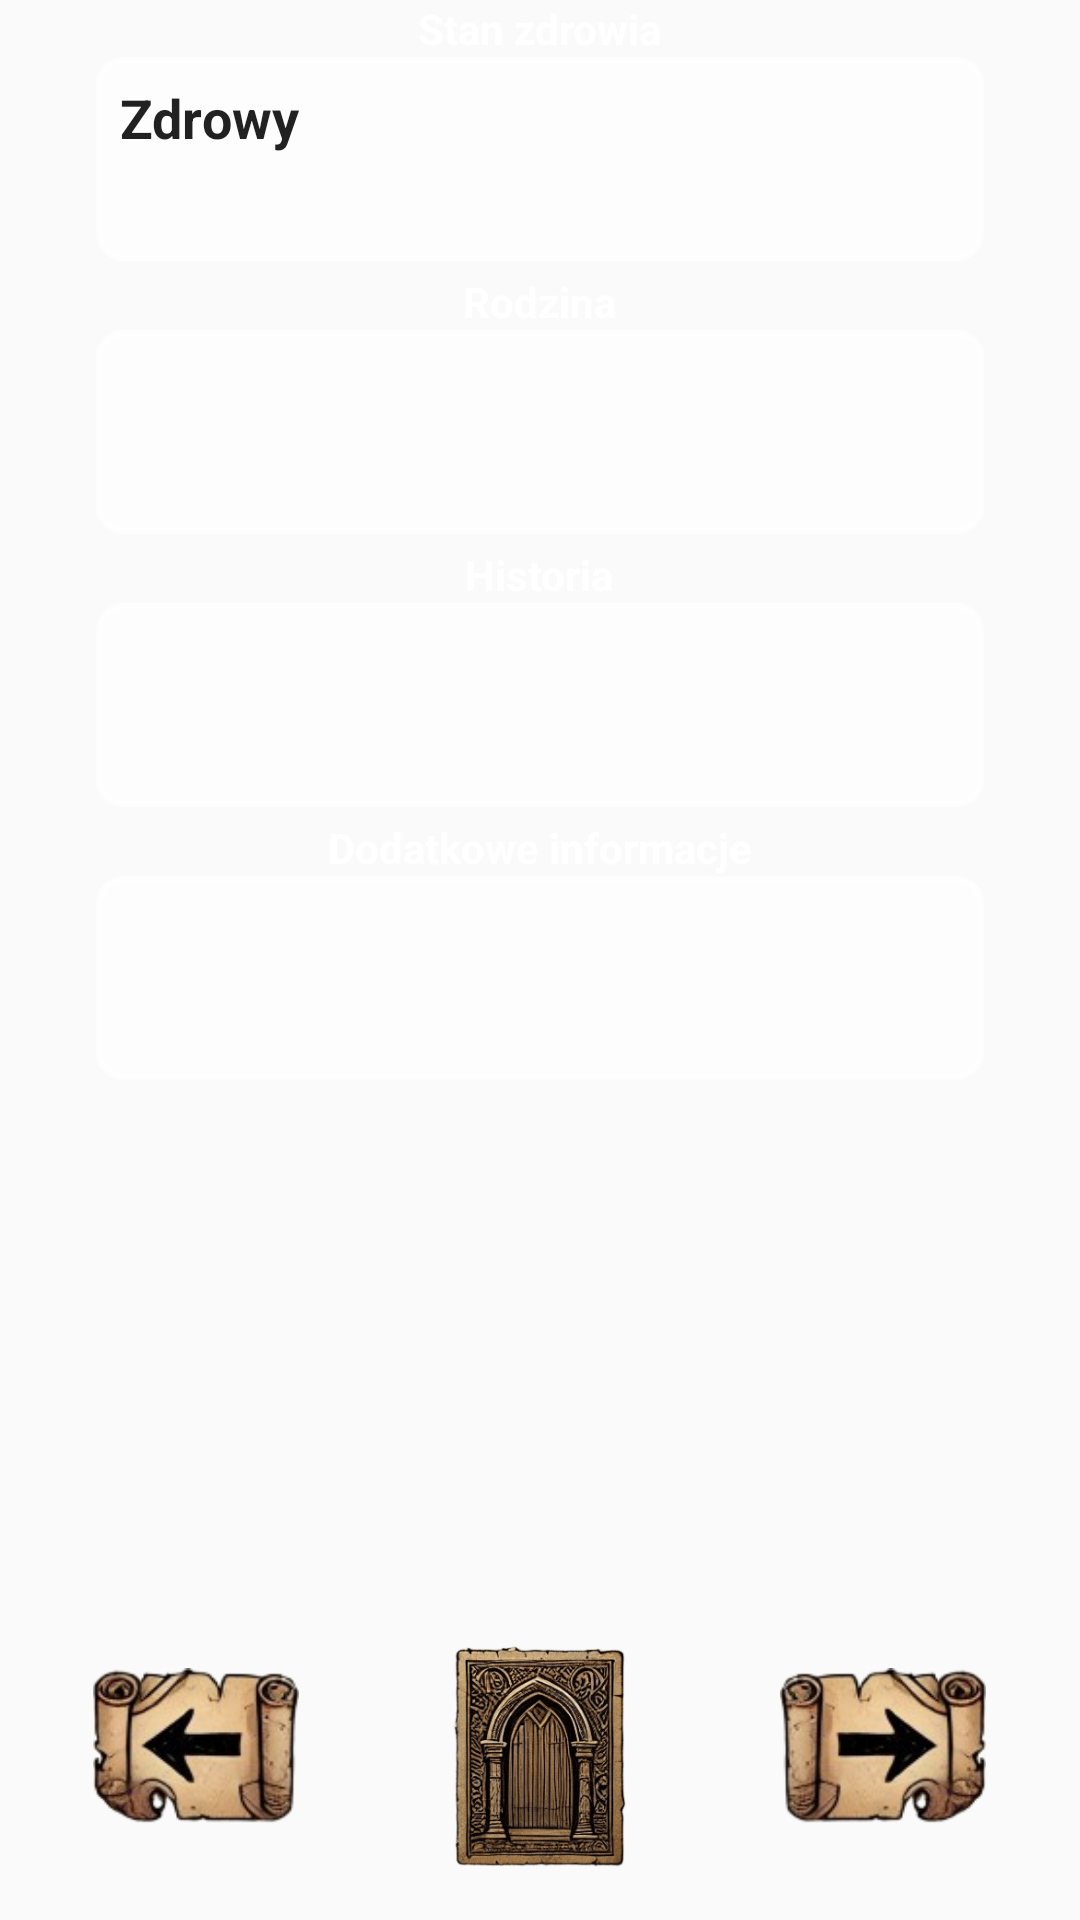

Icons on this 1080px x 1920px Android screen, each with the point to tap as (x,y):
back: (196,1745)
exit: (540,1756)
next: (883,1745)
